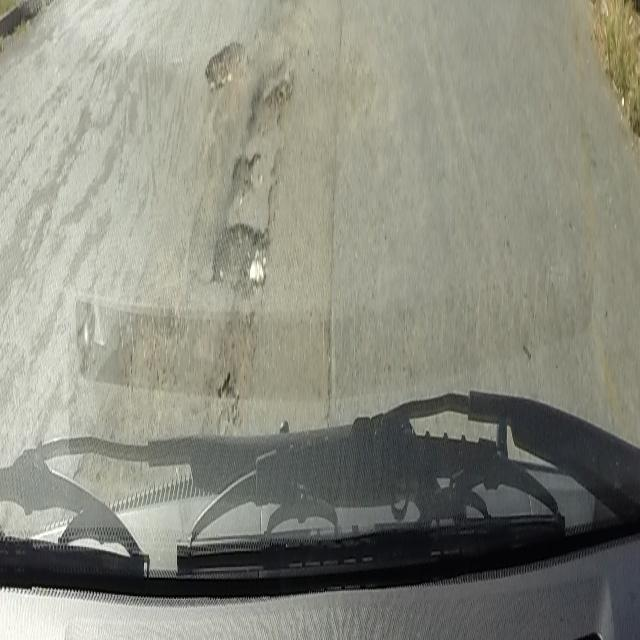pothole: (204, 37, 297, 136), (210, 220, 270, 290), (230, 143, 260, 204)
